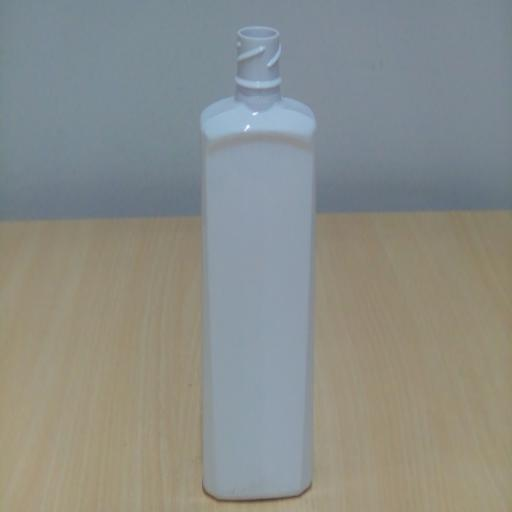Good: (185, 16, 334, 508)
